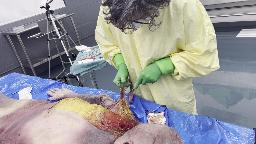scalpel: (128, 88, 136, 94)
